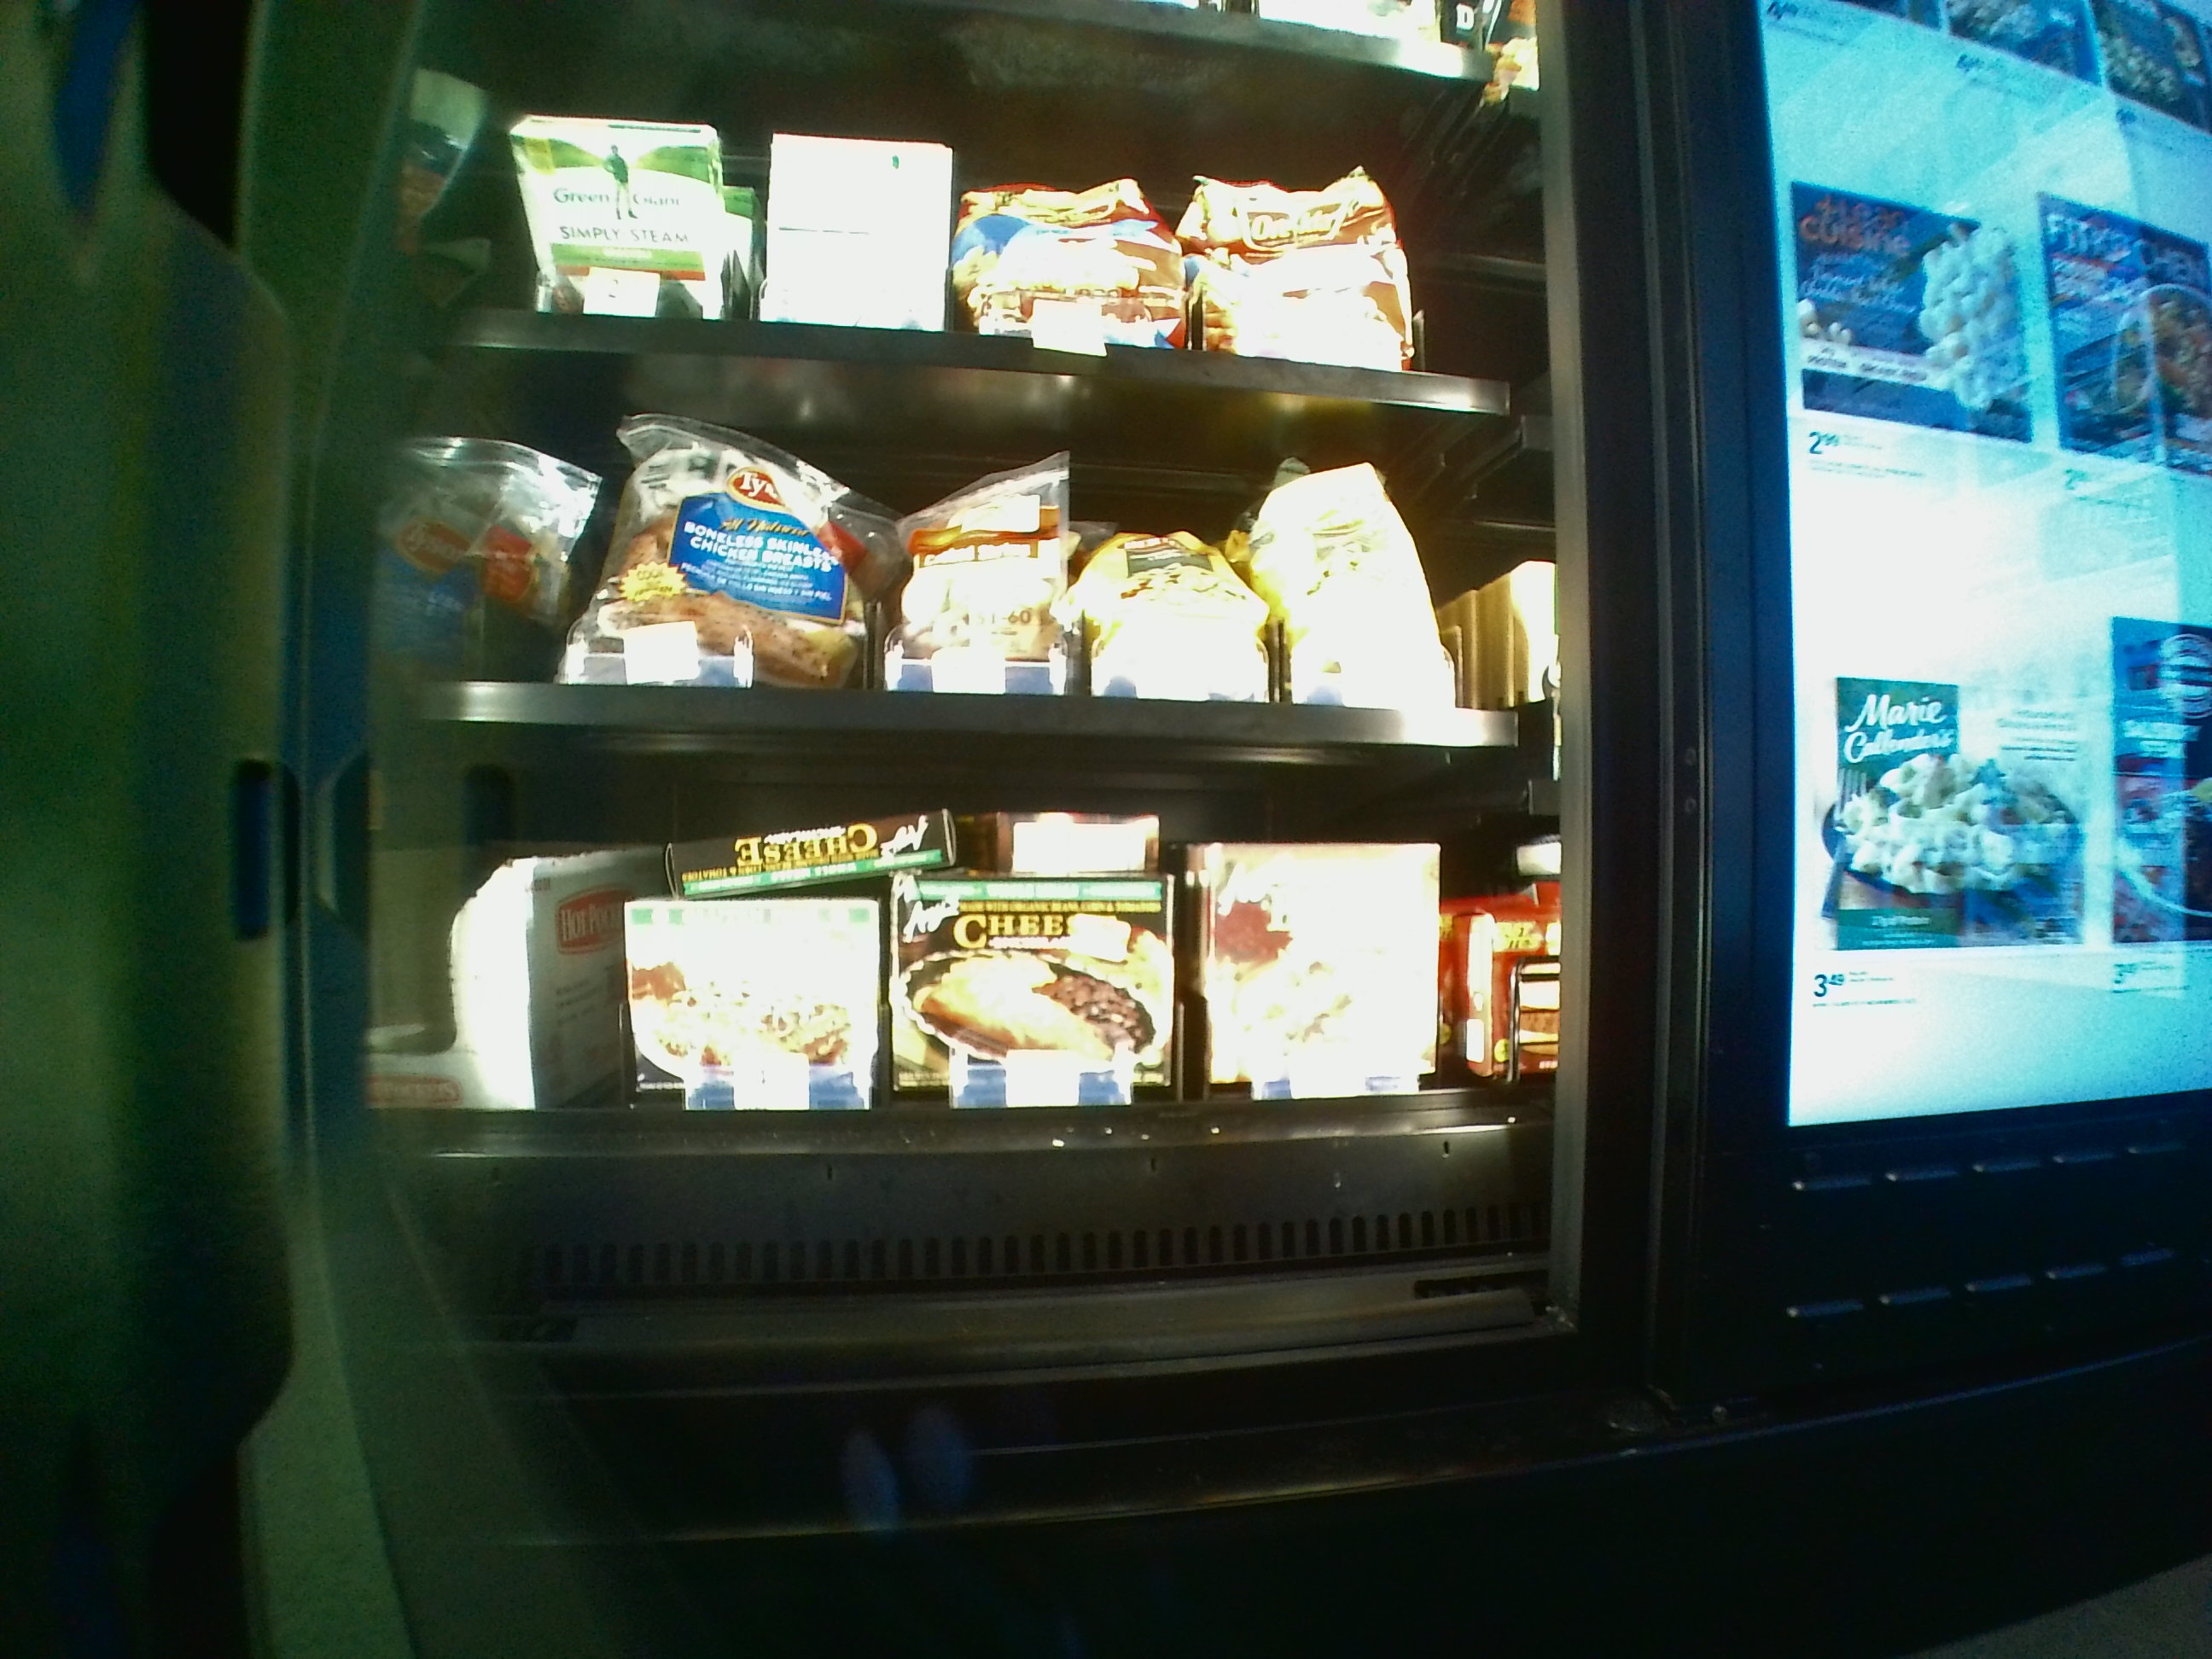shelf: (387, 762, 1545, 1319), (381, 352, 1536, 751)
